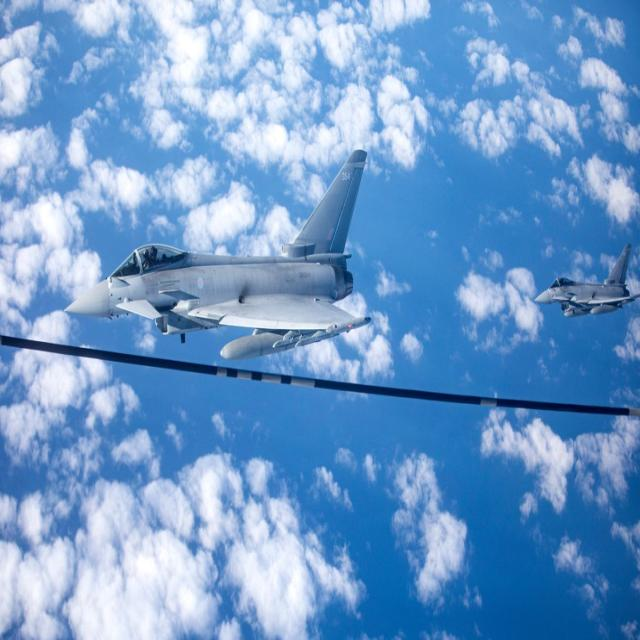MIL_Plane: (63, 149, 371, 361), (533, 244, 640, 318)
